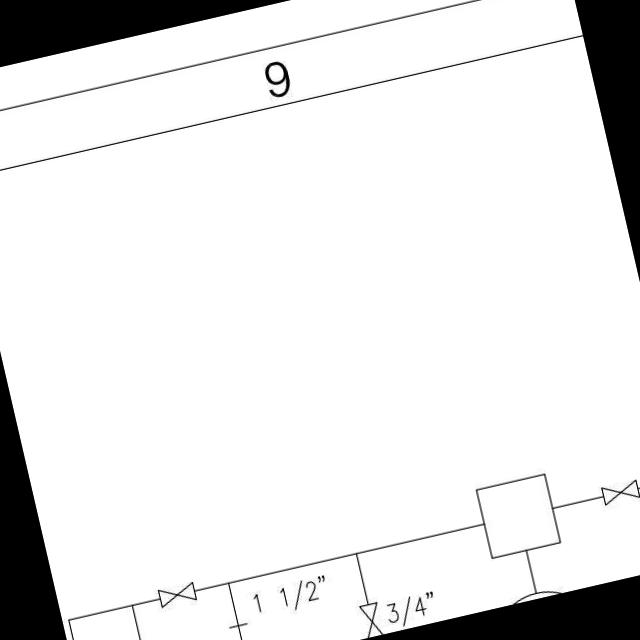GV: (150, 576, 199, 610), (594, 472, 640, 508)
